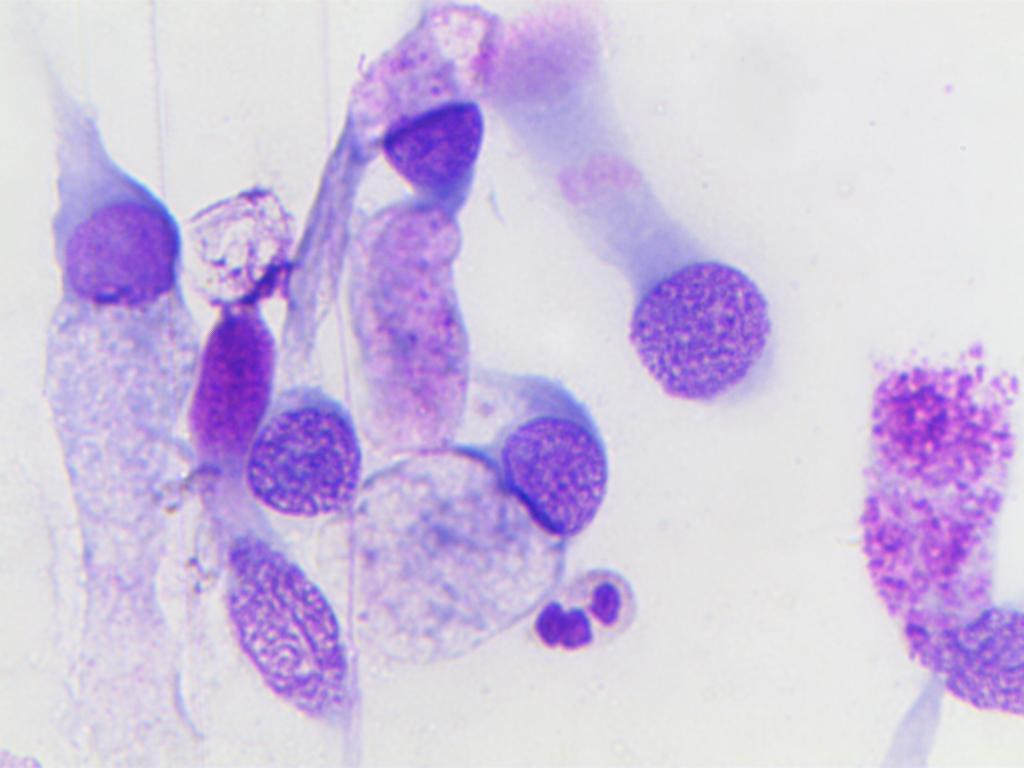artifact: (850, 359, 1023, 728)
ciliated: (472, 12, 778, 404)
epithelial: (213, 533, 365, 724), (241, 395, 370, 518)
goblet_cell: (13, 72, 186, 706), (394, 385, 620, 563), (338, 10, 495, 210)
neutrophil: (531, 565, 647, 659)
